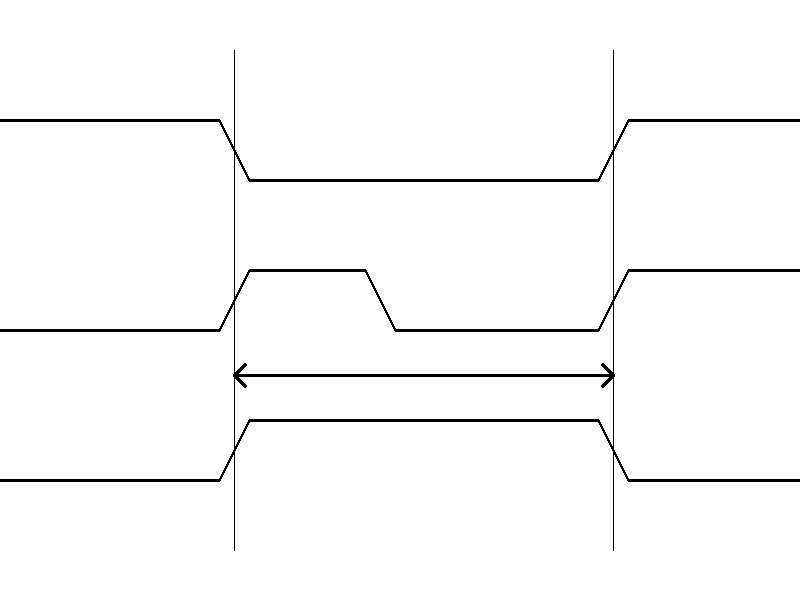double_arrow: (234, 360, 613, 390)
